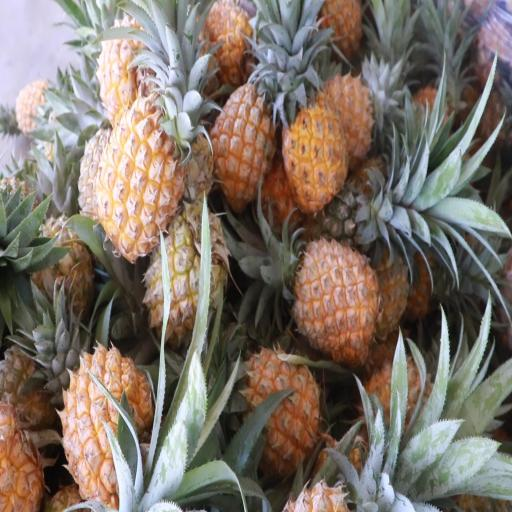------------------------------: (148, 210, 225, 338)
Pineapple - v8 v1: (65, 345, 150, 499), (101, 104, 185, 248), (292, 242, 376, 357), (242, 348, 324, 460), (212, 80, 282, 203), (284, 98, 350, 206), (98, 24, 162, 118)
